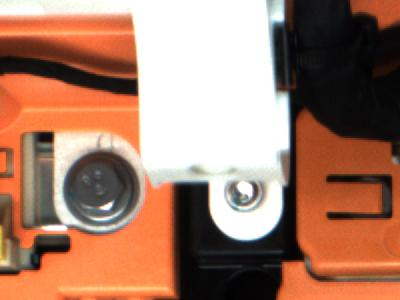nut_b: (56, 153, 147, 229)
